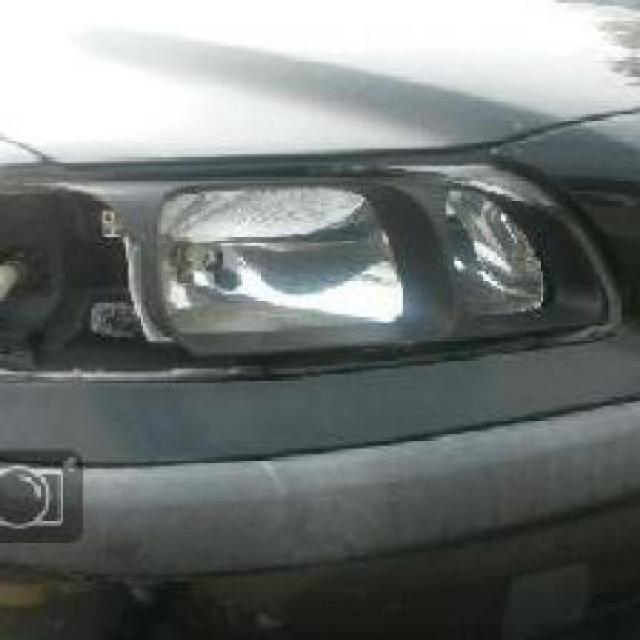damaged-head-light: (0, 168, 598, 374)
